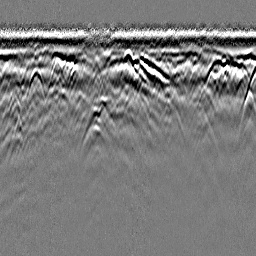cavity: (122, 46, 134, 65)
